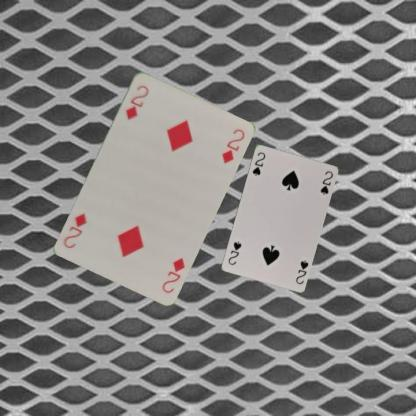2d: (123, 82, 150, 121), (159, 255, 186, 294)
2s: (293, 258, 310, 285), (250, 149, 266, 177)
